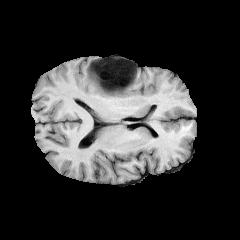glioma: (84, 57, 136, 97)
